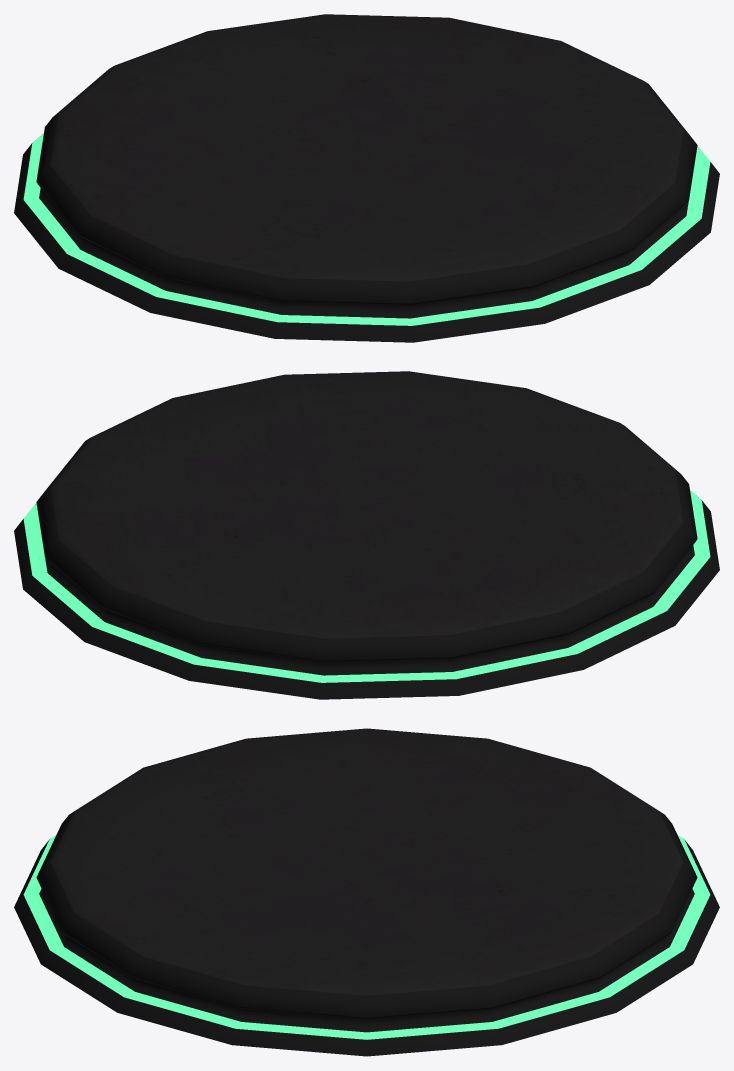
Rendered from jb2around2.glb.
3 renders of one model, top to bottom at view 1: azimuth 30°, elevation 25°; view 2: azimuth 150°, elevation 25°; view 3: azimuth 270°, elevation 25°, orthographic.
Visible parts, largest first — view 1: base; view 2: base; view 3: base.
Part boxes in pixels (bbox=[...]): base: bbox=[14, 14, 719, 342]; base: bbox=[14, 371, 719, 699]; base: bbox=[14, 728, 719, 1056].
Size of the model in its own units: 2 by 0.1473 by 2.
Materials: 3 (1 with a texture image).
